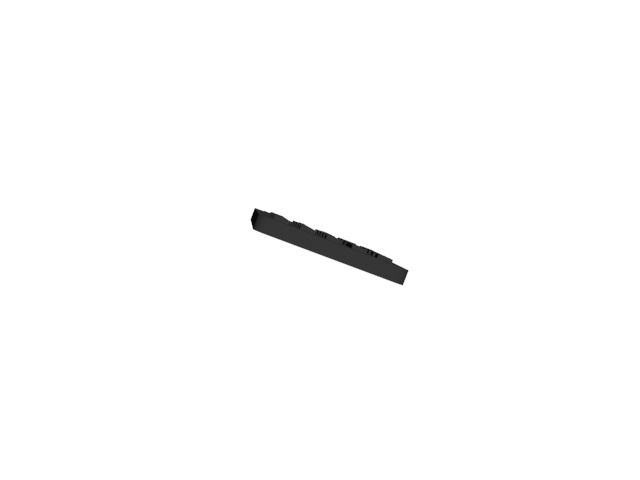calculator: (249, 207, 416, 288)
